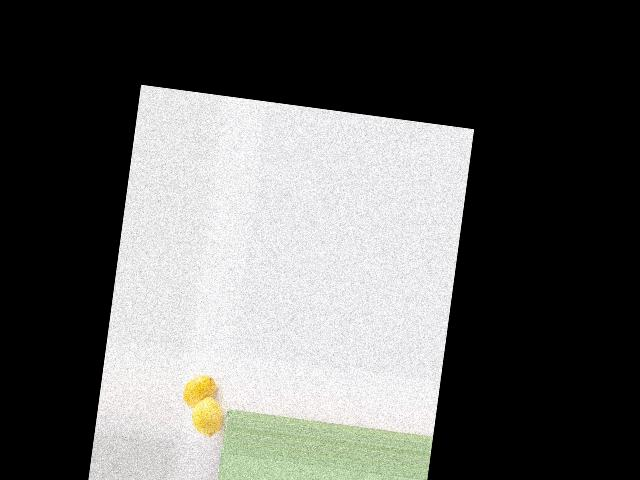lemon: (180, 371, 215, 408)
